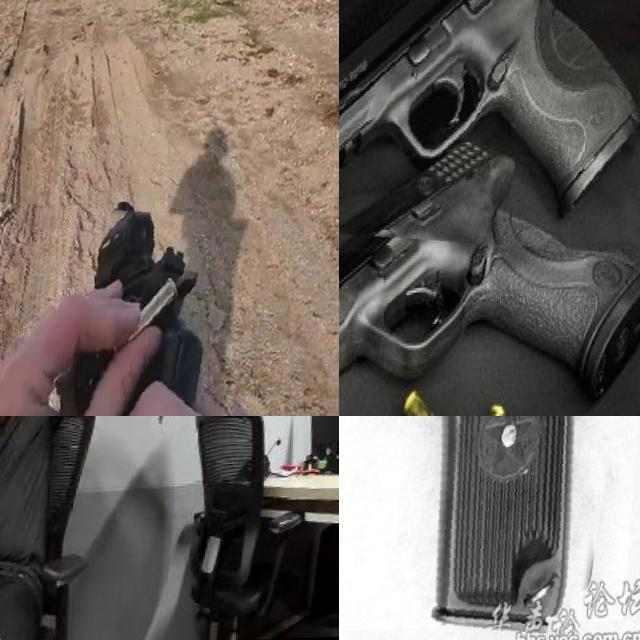-: (157, 416, 193, 477)
gun-knife-thesis - v11 Yolov5 augmented: (339, 130, 640, 416), (339, 0, 640, 258), (339, 416, 640, 640), (0, 203, 266, 416)
